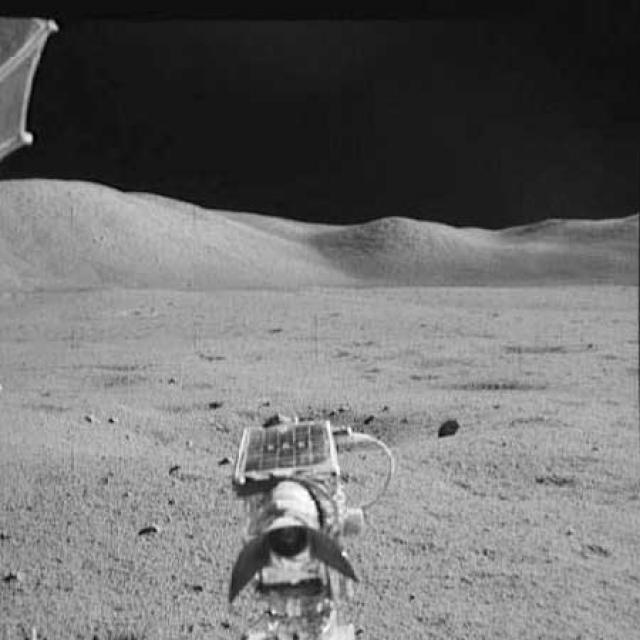artifact: (209, 410, 404, 638), (0, 13, 72, 181)
crater: (182, 401, 454, 458), (434, 369, 548, 394), (493, 333, 606, 356)
rock: (431, 414, 463, 438), (136, 512, 162, 537)
